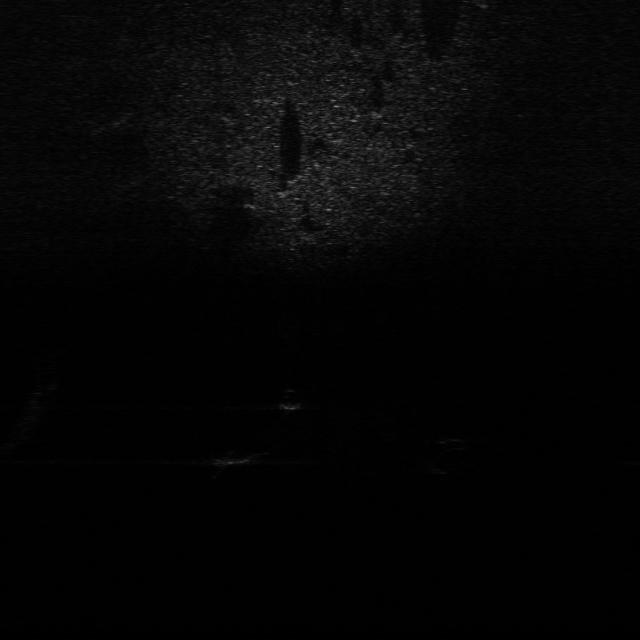ball: (276, 387, 306, 413)
square cage: (206, 443, 270, 467)
tyre: (424, 434, 477, 477)
